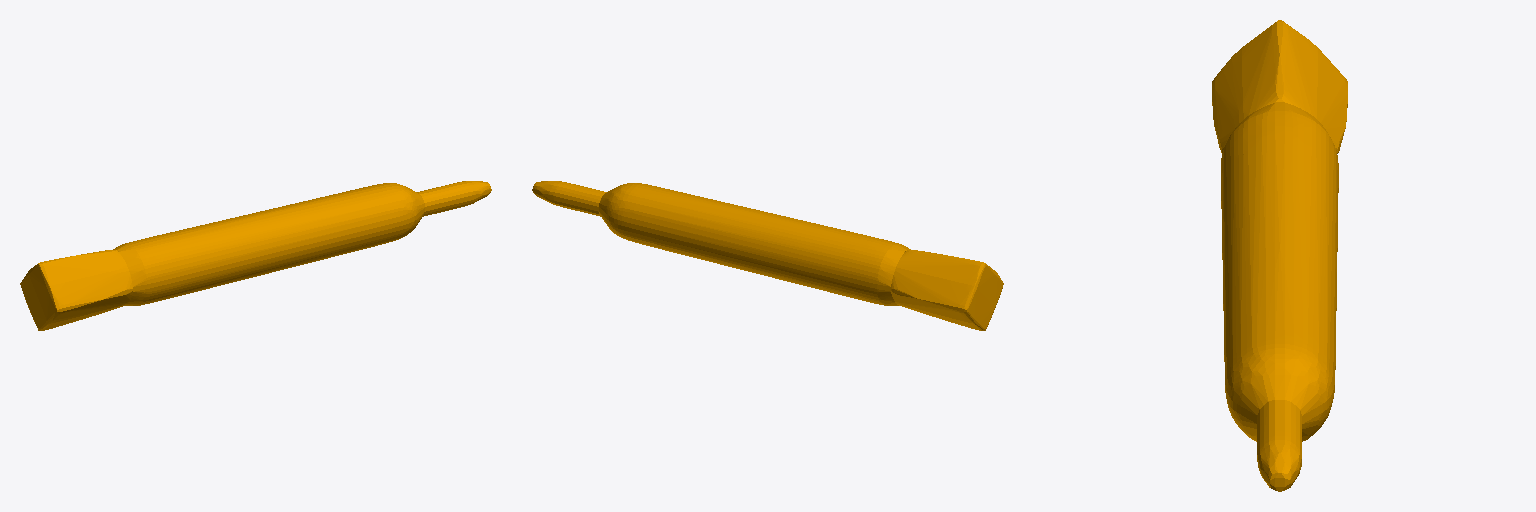
The robot description file, URDF, robot "staples_marker":
<?xml version='1.0' encoding='utf-8'?>
<robot name="staples_marker">
  <link name="staples_marker">
    <visual>
      <origin xyz="0 0 0" rpy="0 0 0" />
      <geometry>
        <mesh filename="staples_marker.obj" scale="1 1 1" />
      </geometry>
    </visual>
    <collision>
      <origin xyz="0 0 0" rpy="0 0 0" />
      <geometry>
        <mesh filename="staples_marker_collision/decomp_0.obj" scale="1 1 1" />
      </geometry>
    </collision>
    <collision>
      <origin xyz="0 0 0" rpy="0 0 0" />
      <geometry>
        <mesh filename="staples_marker_collision/decomp_1.obj" scale="1 1 1" />
      </geometry>
    </collision>
    <collision>
      <origin xyz="0 0 0" rpy="0 0 0" />
      <geometry>
        <mesh filename="staples_marker_collision/decomp_2.obj" scale="1 1 1" />
      </geometry>
    </collision>
    <inertial>
      <origin xyz="0.0257038 -6.72565e-07 -1.50602e-06" rpy="0 0 0" />
      <mass value="0.0128554" />
      <inertia ixx="5.05352e-07" ixy="-2.16234e-09" ixz="1.86721e-09" iyy="1.78585e-05" iyz="-2.17513e-10" izz="1.78618e-05" />
    </inertial>
  </link>
</robot>

--- What the picture shows (computed from the rendered views, not written in the file) ---
3 views of the same robot in one strip: view 1: azimuth 30°, elevation 25°; view 2: azimuth 150°, elevation 25°; view 3: azimuth 270°, elevation 25° (orthographic).
Robot: staples_marker — 1 links, 0 joints (none); root link staples_marker; default pose: all joints at 0.
Visible links, largest first — view 1: staples_marker; view 2: staples_marker; view 3: staples_marker.
Link boxes in pixels (box(x1,y1,x2,y2)): staples_marker: box(20, 181, 491, 330); staples_marker: box(532, 181, 1003, 330); staples_marker: box(1212, 20, 1347, 491).
Bounding box of the posed robot: 0.1507 × 0.0217 × 0.0216 m (x, y, z).
1 mesh visuals loaded from 1 distinct referenced files (1 OBJ).
